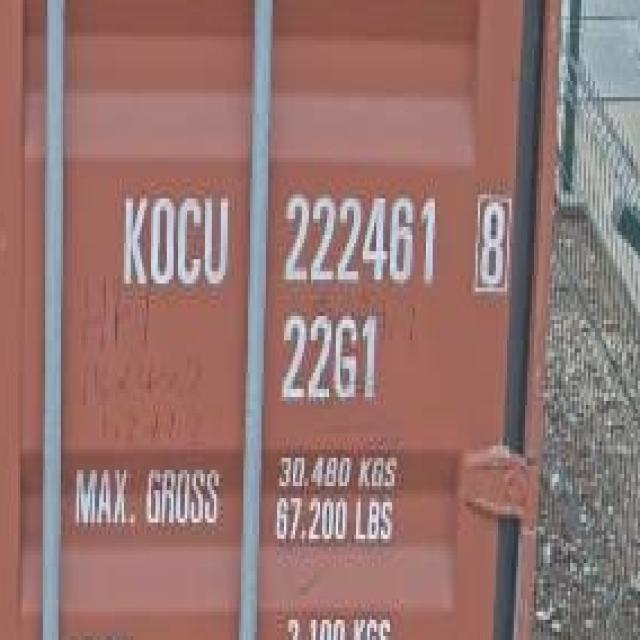dv: (468, 185, 514, 300)
owner: (113, 182, 240, 302)
serial: (278, 180, 444, 294)
size: (274, 306, 384, 409)
